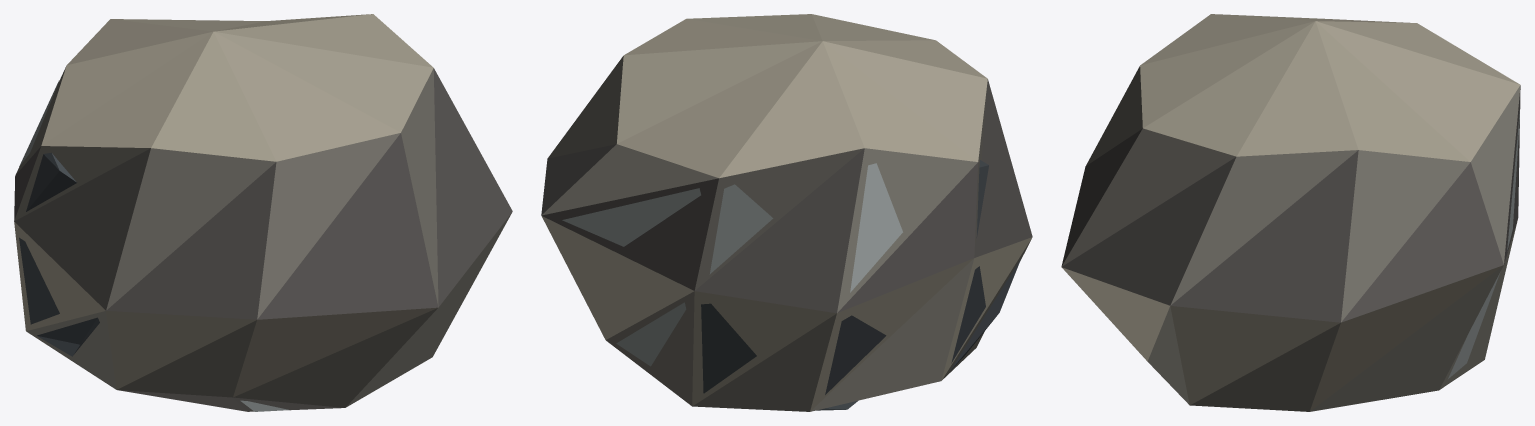
File: IronOre.fbx
3 renders of one model, left to right at view 1: azimuth 30°, elevation 25°; view 2: azimuth 150°, elevation 25°; view 3: azimuth 270°, elevation 25°, orthographic. The views are drawn at different scales.
Parts seen in each view (by area): view 1: IronOre_Mesh; view 2: IronOre_Mesh; view 3: IronOre_Mesh.
Part boxes in pixels (x1,y1,x2,y2): IronOre_Mesh: [14, 14, 512, 411]; IronOre_Mesh: [541, 14, 1032, 411]; IronOre_Mesh: [1061, 14, 1520, 411].
Size of the model in its own units: 0.55 by 0.45 by 0.5.
